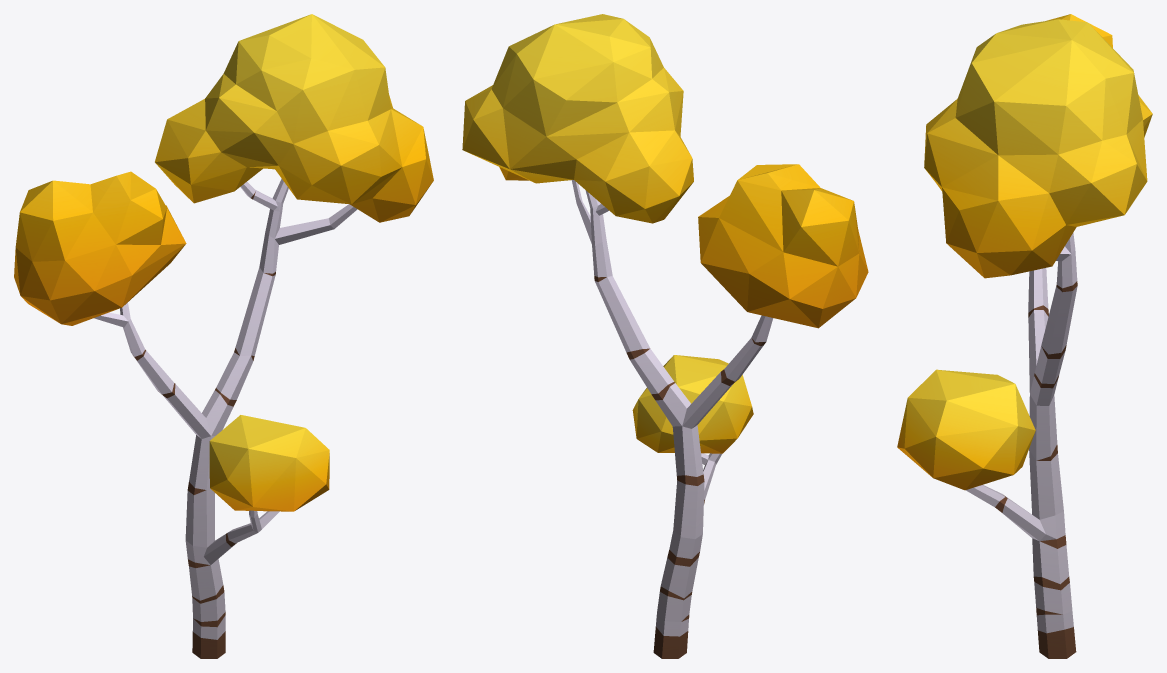
The model's file is Tree_Birch_05.fbx.
The picture shows the model from 3 angles, left to right: view 1: azimuth 30°, elevation 25°; view 2: azimuth 150°, elevation 25°; view 3: azimuth 270°, elevation 25°; orthographic projection. The views are drawn at different scales.
Visible parts, largest first — view 1: Tree_Birch_05; view 2: Tree_Birch_05; view 3: Tree_Birch_05.
Part boxes in pixels (bbox=[...]): Tree_Birch_05: bbox=[14, 14, 433, 658]; Tree_Birch_05: bbox=[462, 14, 868, 658]; Tree_Birch_05: bbox=[897, 14, 1152, 658].
Bounding box in the file's own units: 249 × 375 × 129.
